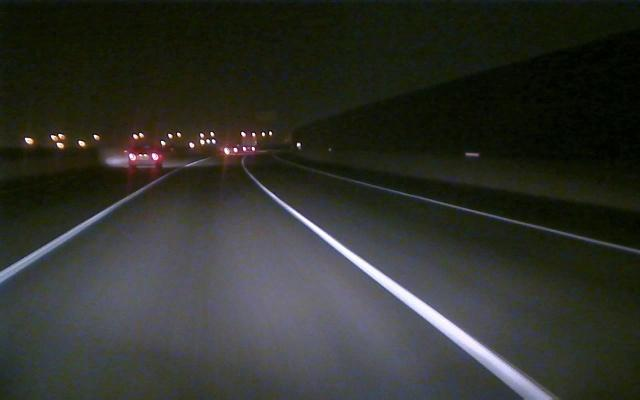lane: (257, 183, 561, 399), (362, 182, 640, 256), (0, 174, 171, 286)
